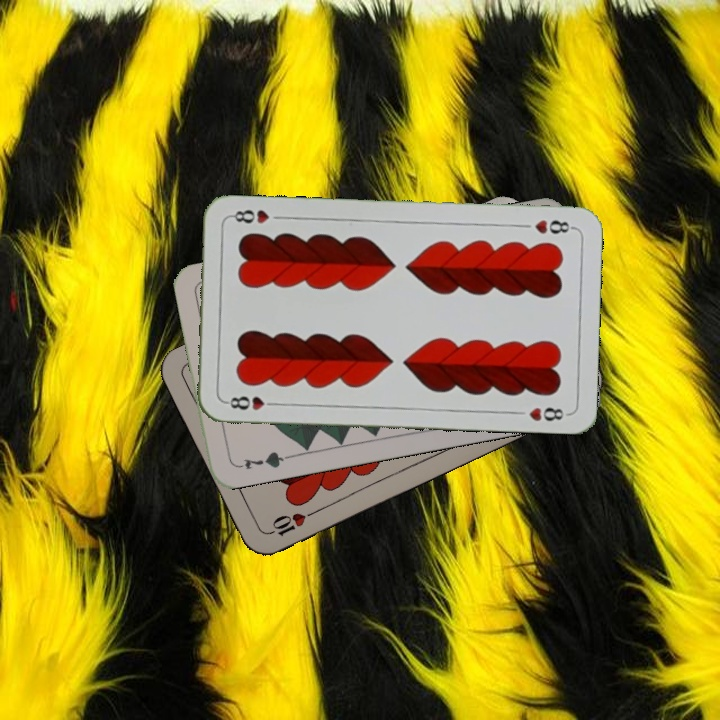G7: (232, 448, 291, 472)
H10: (263, 506, 319, 539)
H8: (222, 392, 281, 413), (530, 216, 577, 237)
